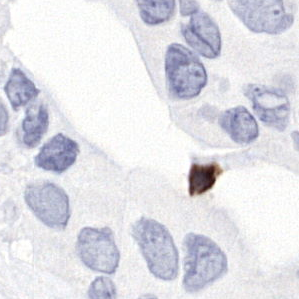Lymphocyte: (188, 163, 218, 194)
